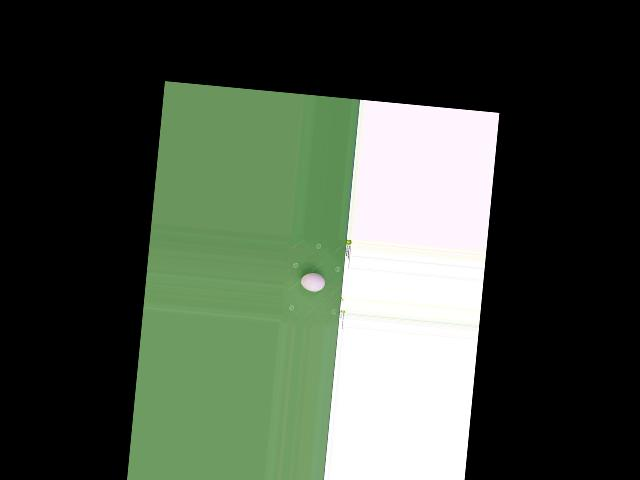egg: (300, 272, 326, 292)
